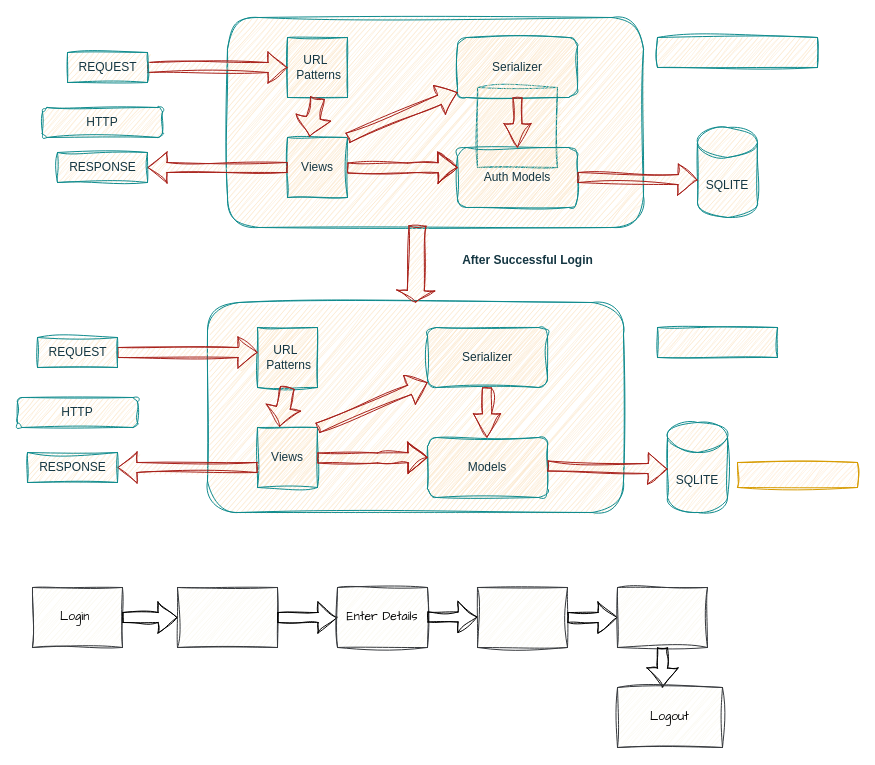
Some shapes in this 875 by 765 pixel diagram are drawn without their labels. The shapes that lost their labels are listed below. From the top down, each one's box as (x1, y1, x2, y2) in pixels, then its label:
(656, 36, 818, 68): QUANTACO USER APP
(656, 326, 778, 358): CUSTOMER APP
(736, 462, 858, 488): customer_customer
(176, 586, 278, 648): Customer Registration page
(476, 586, 568, 648): Validation of input data by serializors
(616, 586, 708, 648): Submit Data
